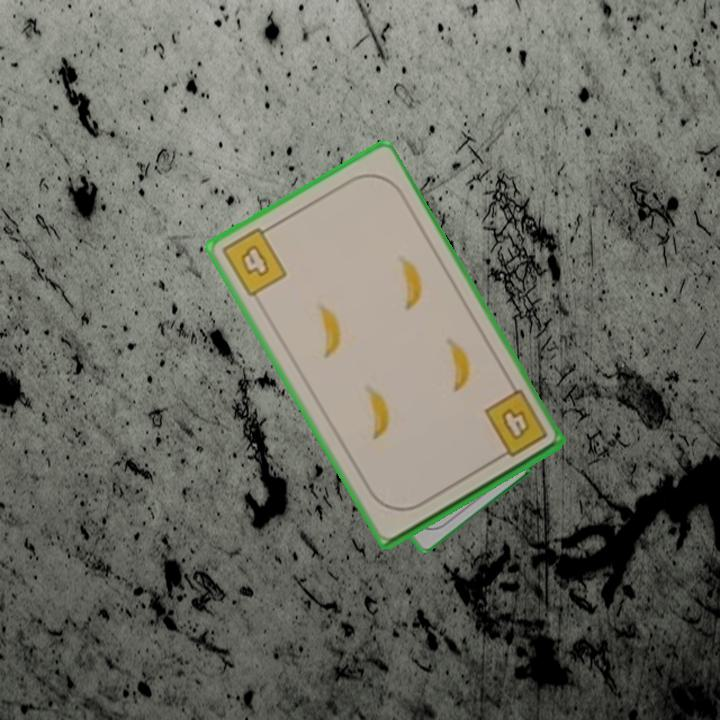4b: (217, 221, 290, 300), (480, 386, 550, 464)
